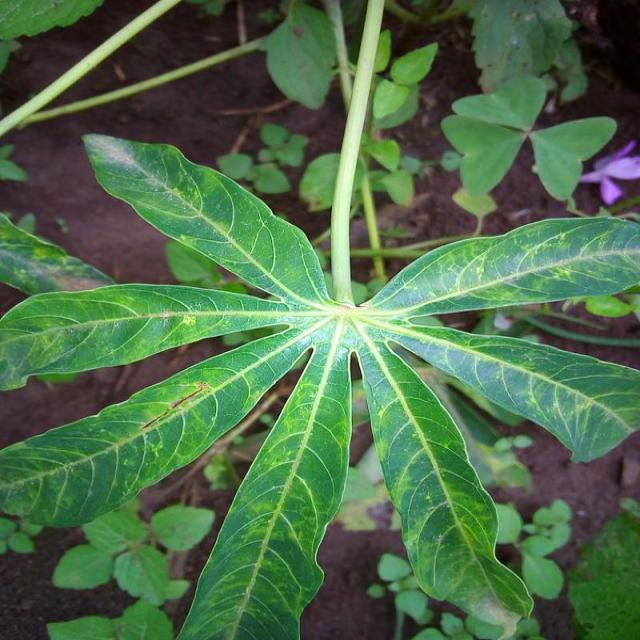cassava leaf: (1, 2, 638, 637), (175, 332, 352, 638)
